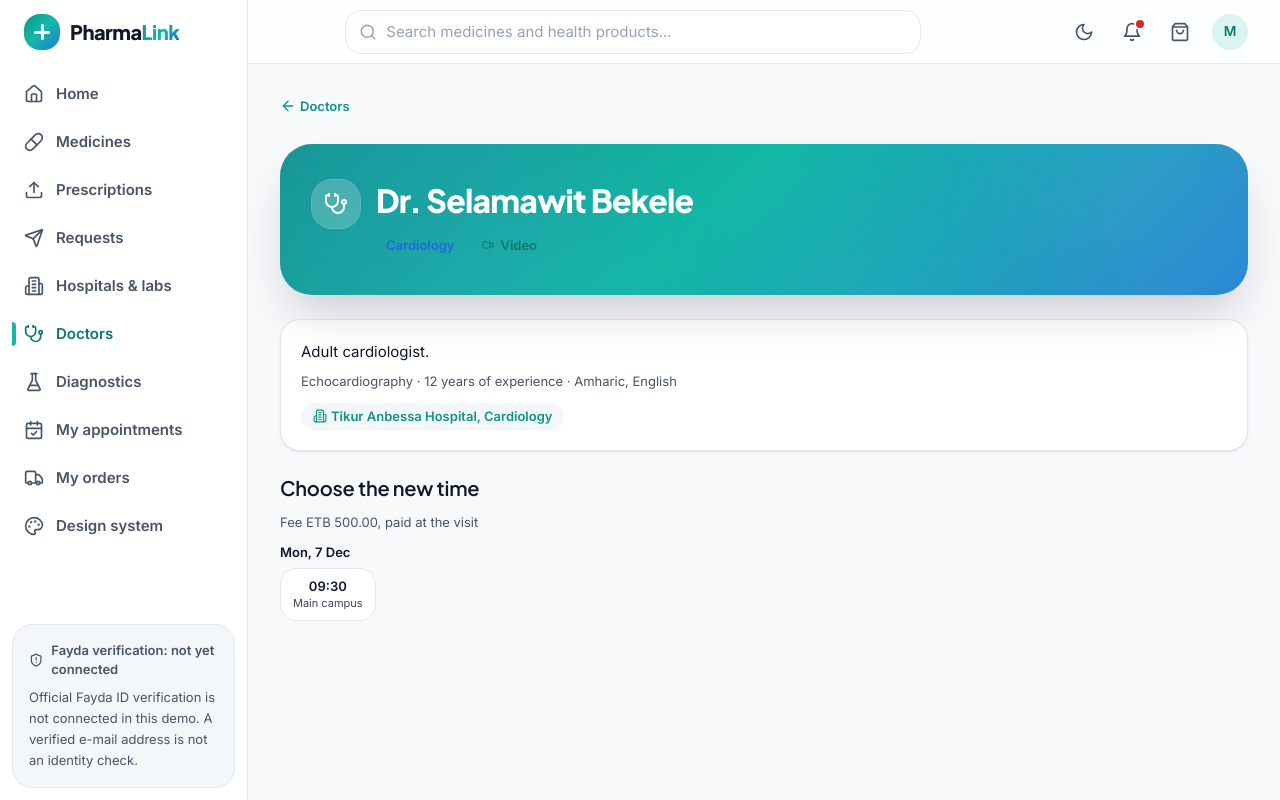
Test: doctors in the app (Work 171) › moves an appointment from the doctor page
Expected: the heading "Choose the new time" is shown, x1=280 y1=474 x2=479 y2=500
Click the button "09:30 Main campus" at (328, 595), box x1=280 y1=568 x2=376 y2=621
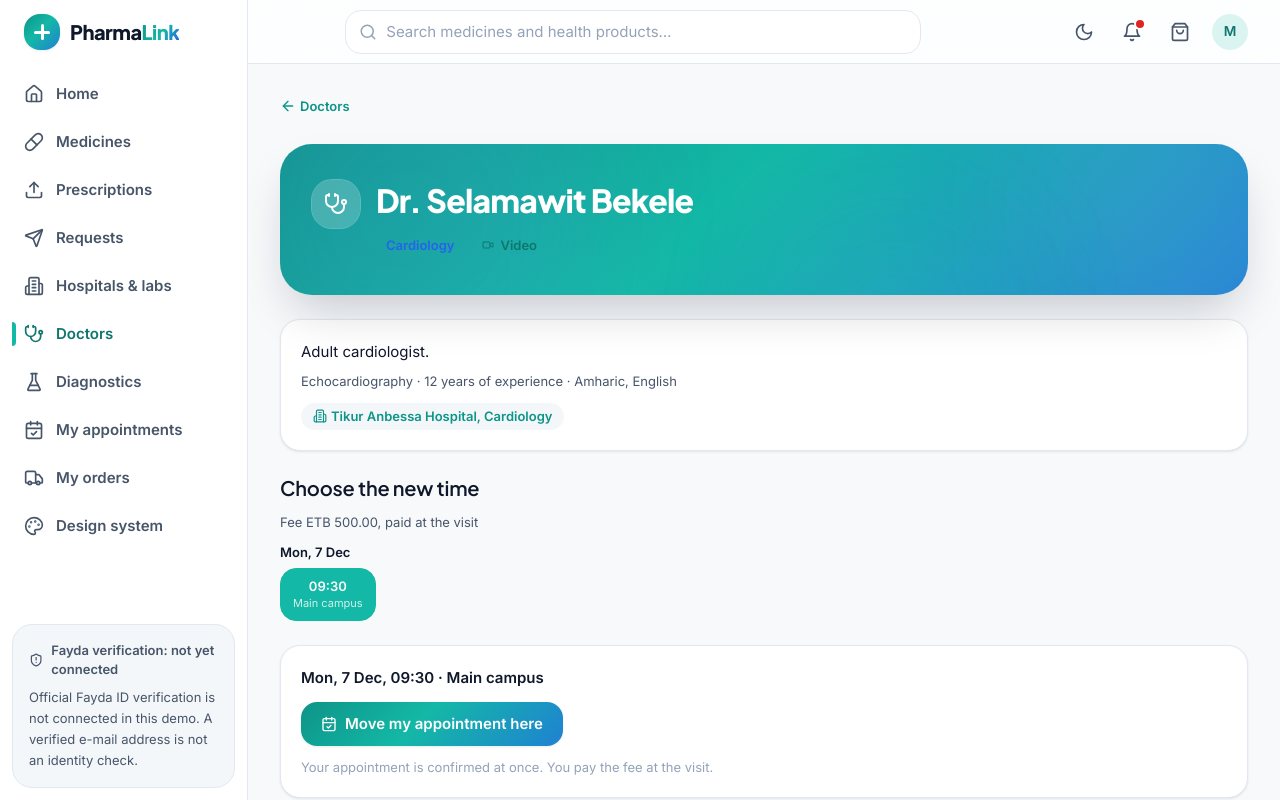
Click the button "Move my appointment here" at (432, 724), box x1=301 y1=702 x2=563 y2=746
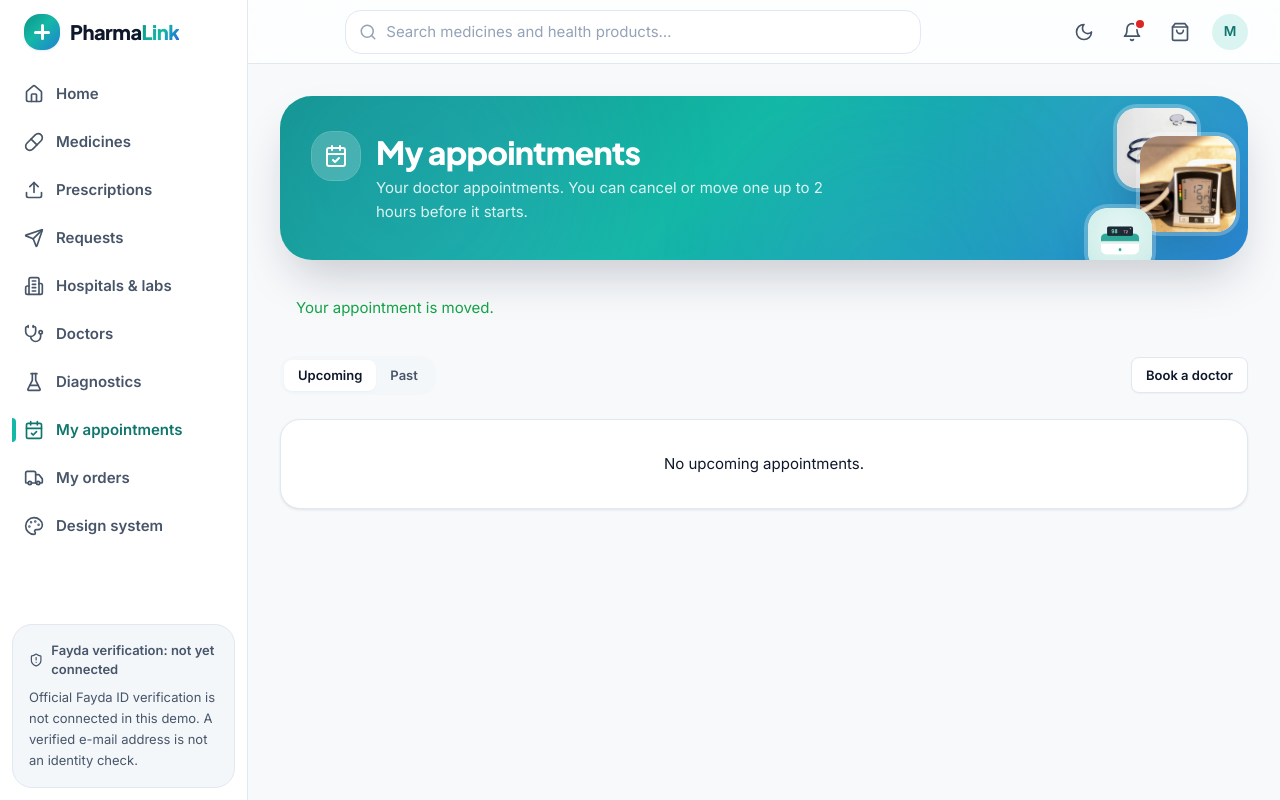
Expected: the text "Your appointment is moved." is shown, x1=296 y1=298 x2=494 y2=317
